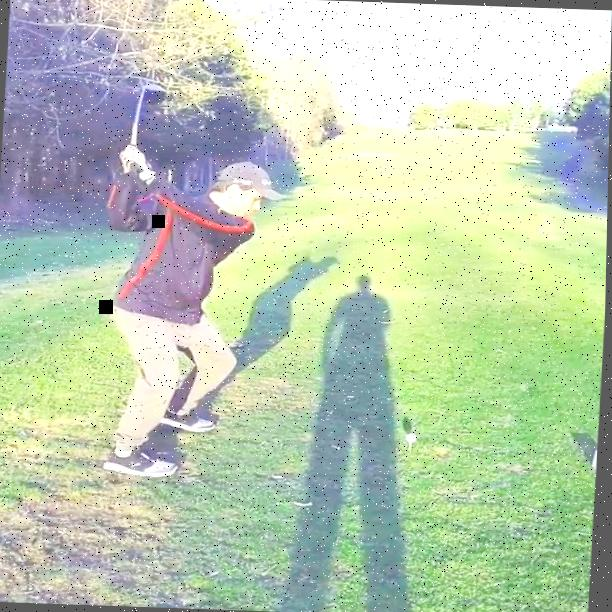ClubHead: (137, 84, 169, 105)
GolfBall: (408, 433, 419, 442)
